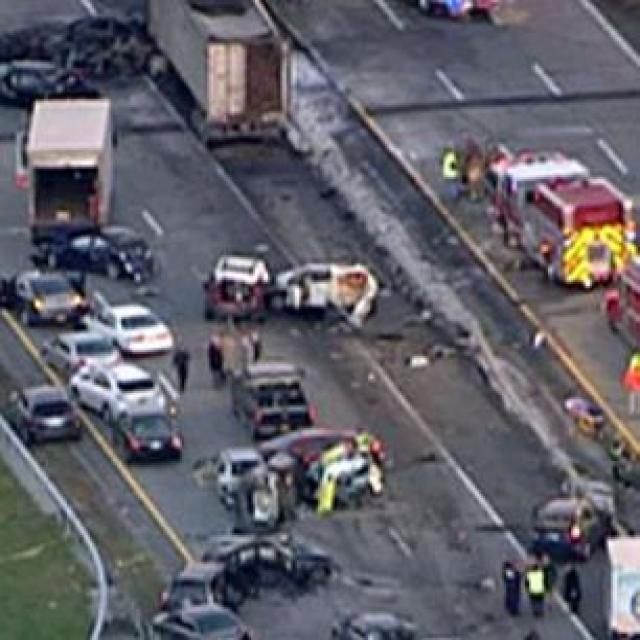traffic_incident: (155, 531, 391, 638), (203, 408, 418, 510), (518, 477, 610, 564), (280, 255, 374, 329)
